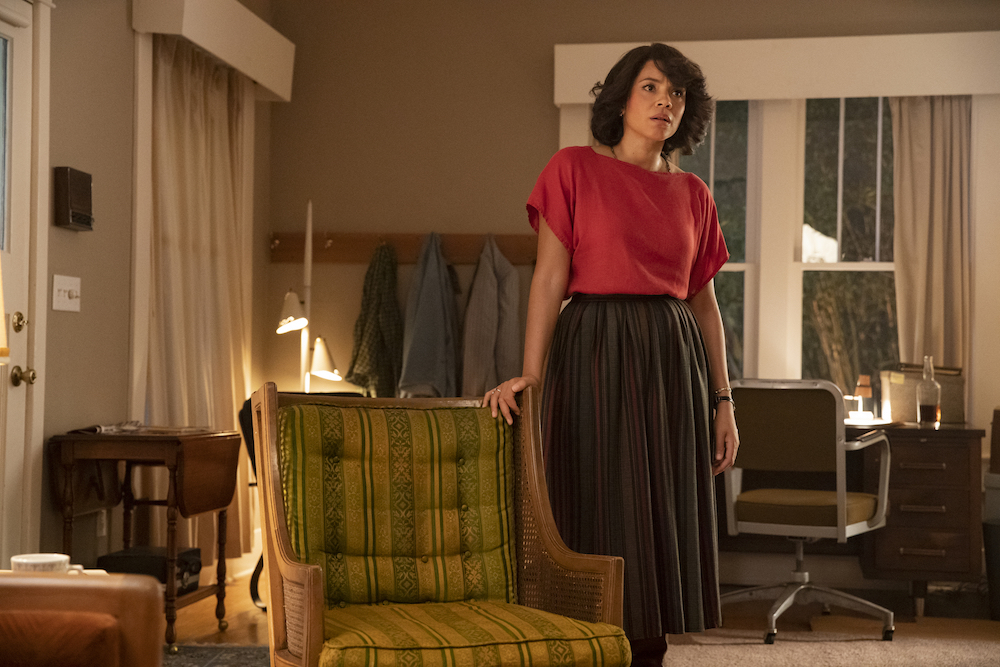person: (488, 40, 753, 660)
